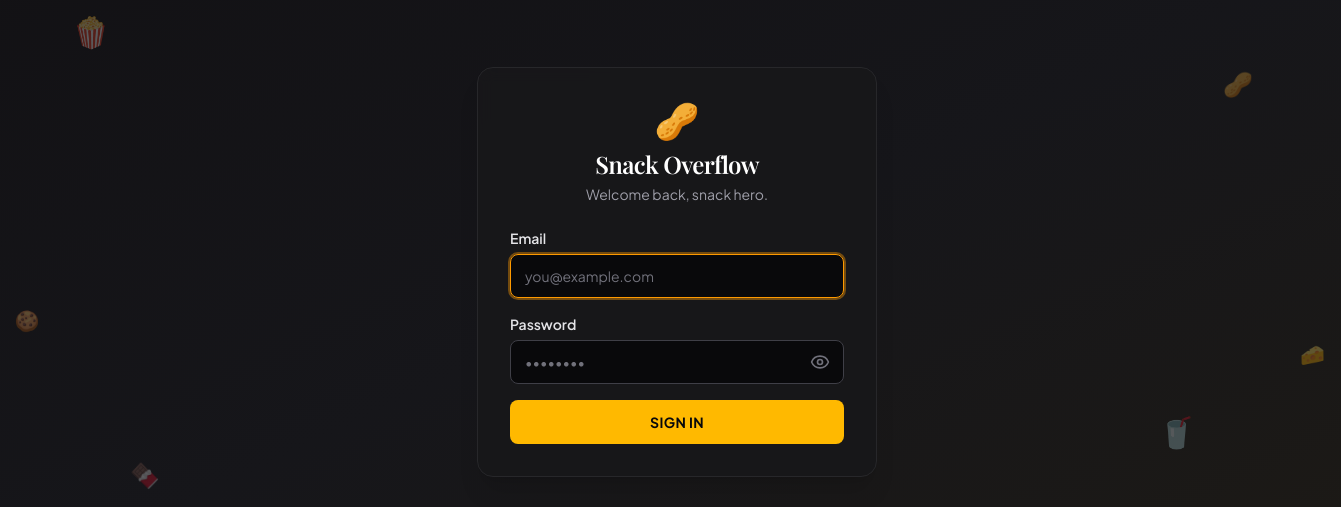
Test: LoginPage › shows a validation error for an invalid email on blur and submit
Later steps or results of the test are not shown.
Type "not-an-email" into the field labelled "Email" at (677,276), box [510,254,844,298]
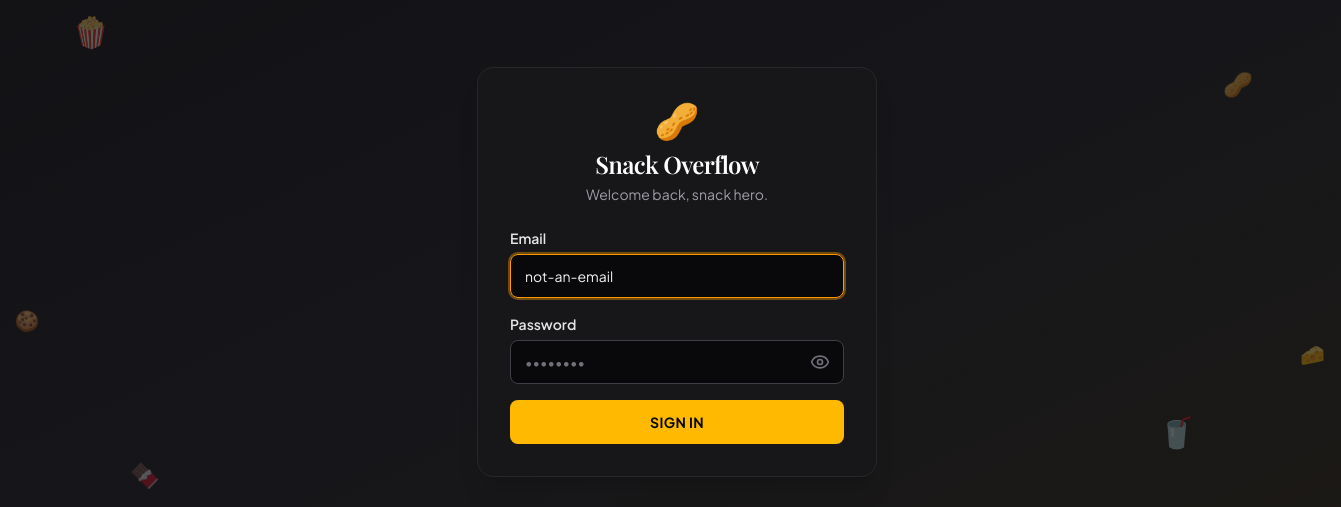
Press Tab
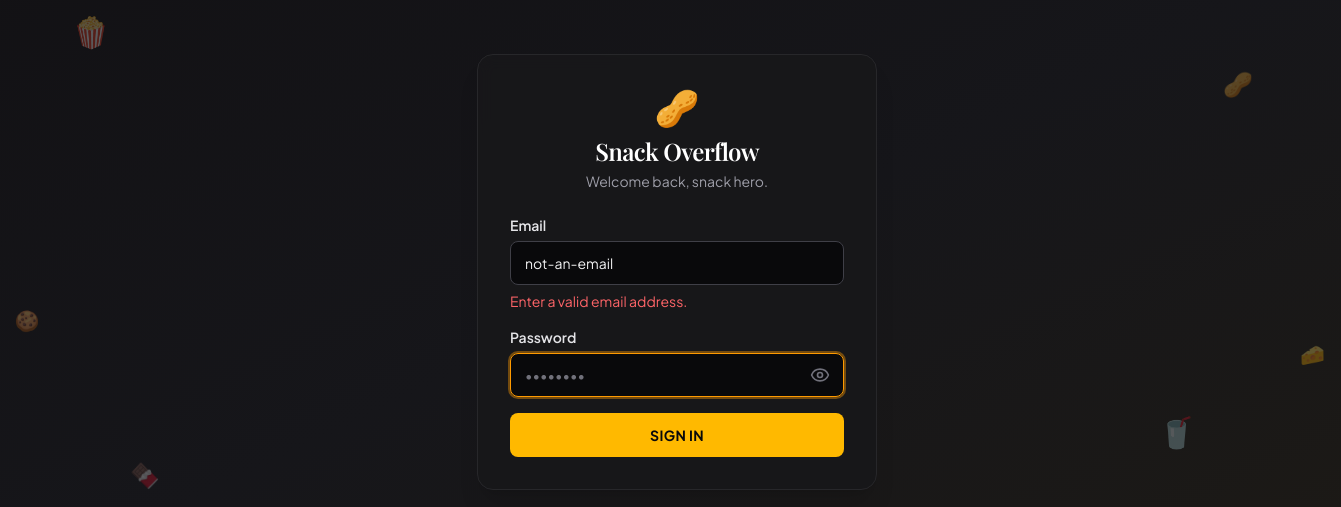
expect the text "Enter a valid email address." is shown: met, box [510,292,687,310]
